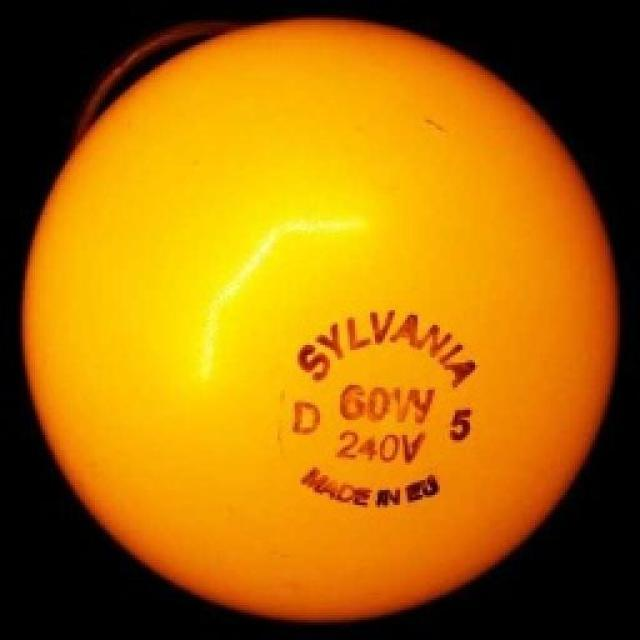oball: (16, 18, 621, 633)
